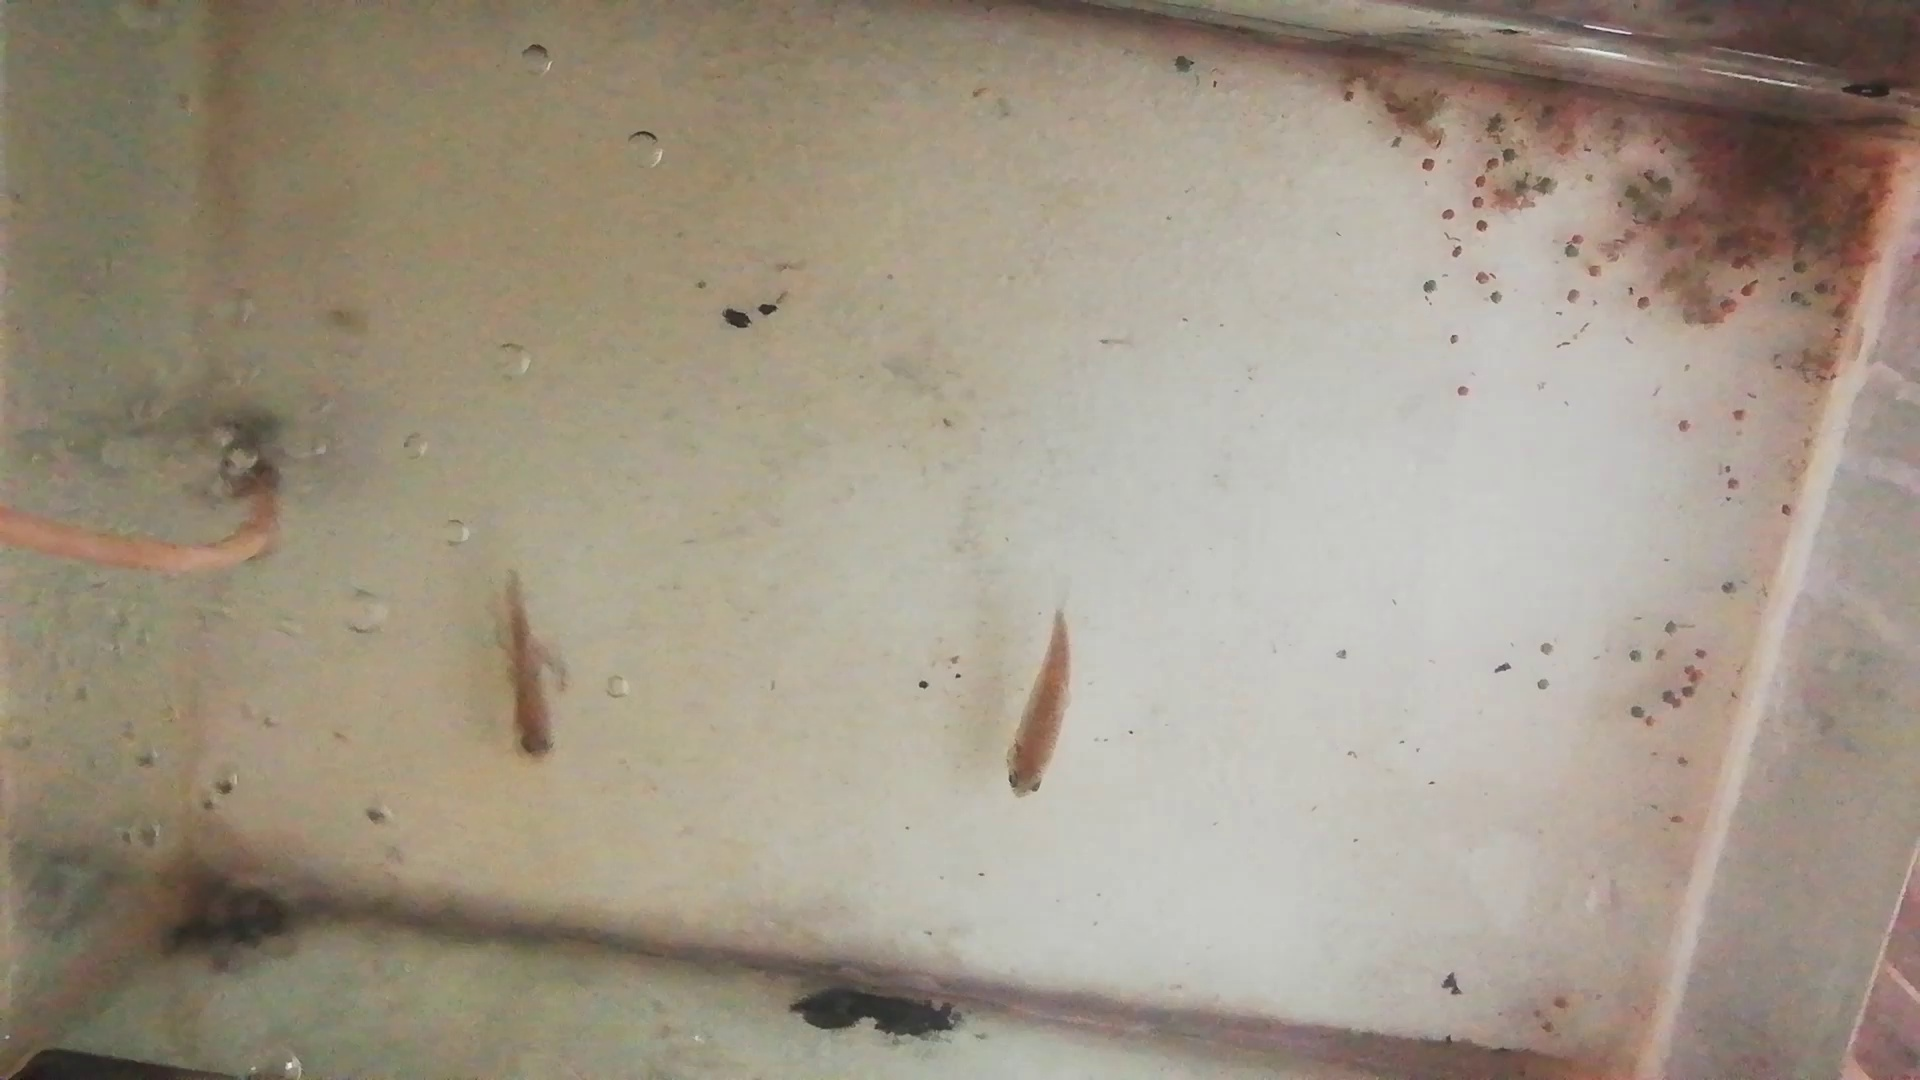fish: (1002, 609, 1077, 800), (492, 568, 558, 762)
